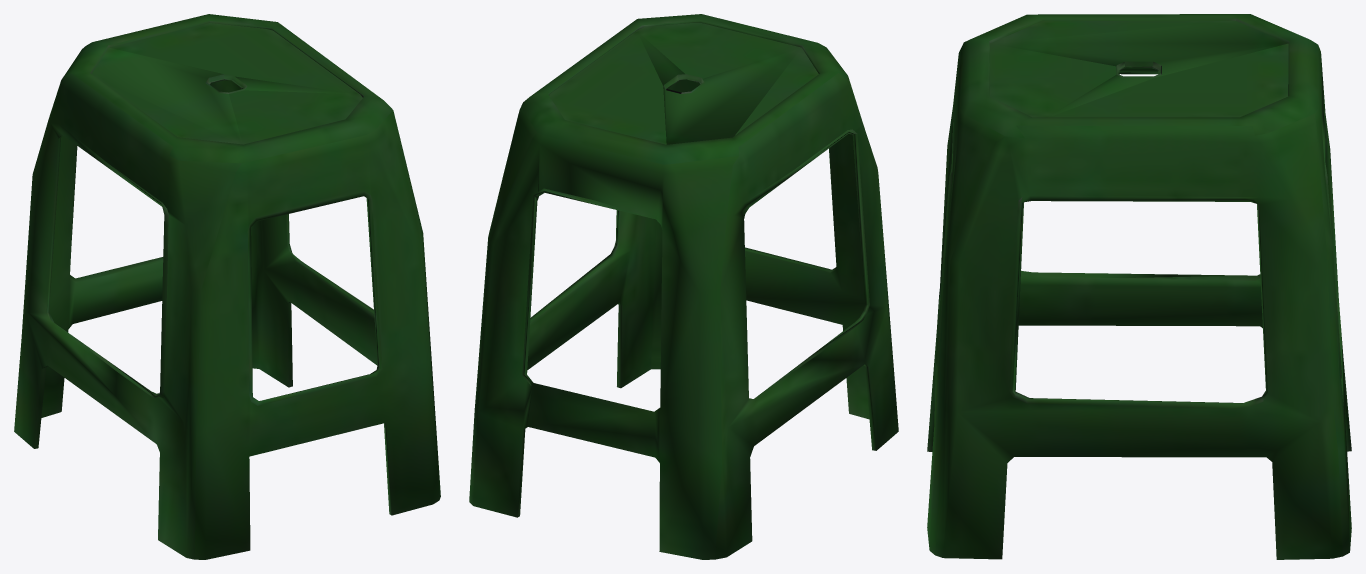
The model's file is plastic_stool.glb.
3 views of the same model, side by side, from view 1: azimuth 30°, elevation 25°; view 2: azimuth 150°, elevation 25°; view 3: azimuth 270°, elevation 25° (orthographic). The views are drawn at different scales.
Parts seen in each view (by area): view 1: plastic_stool; view 2: plastic_stool; view 3: plastic_stool.
Boxes of the visible parts, x1,y1,x2,y2 form: plastic_stool: (14, 14, 440, 559); plastic_stool: (469, 14, 898, 559); plastic_stool: (927, 14, 1351, 559).
Size of the model in its own units: 0.3199 by 0.45 by 0.41.
1 material, 1 textured.
